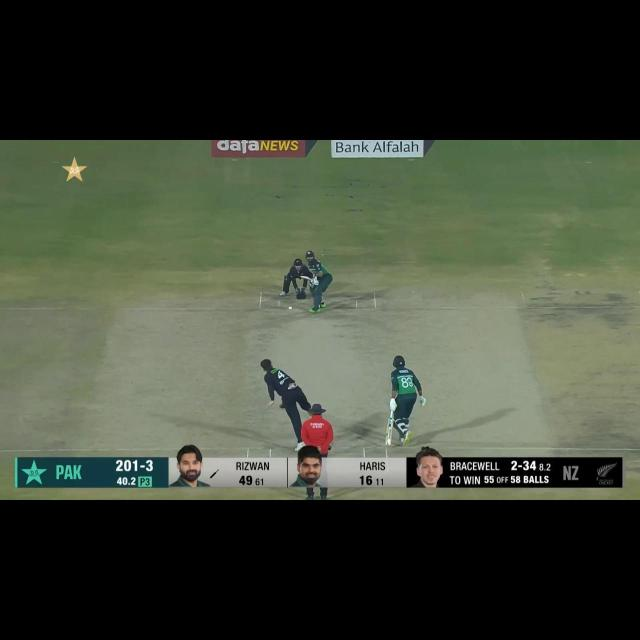bat: (385, 417, 394, 448), (300, 274, 313, 283)
toe: (385, 441, 394, 448), (300, 275, 305, 280)
